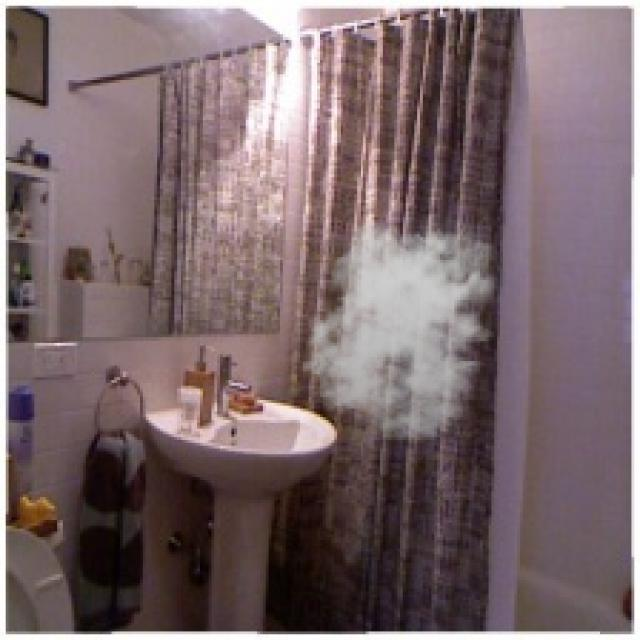Smoke: (300, 214, 509, 443)
